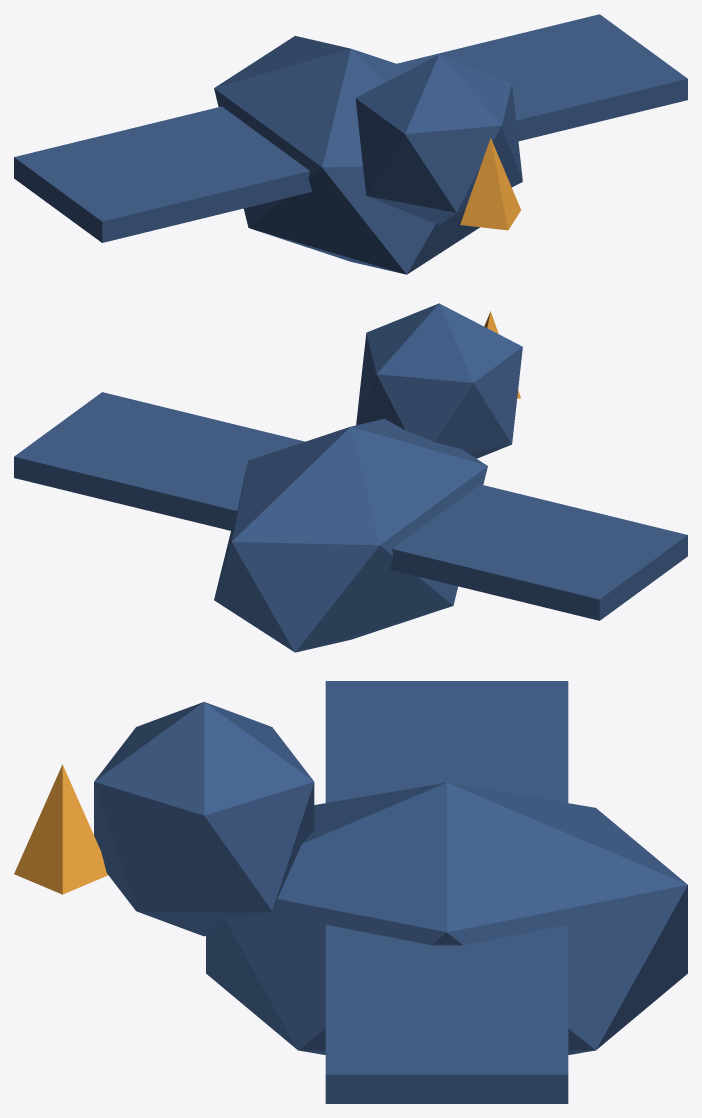
Rendered from bird_2.glb.
3 renders of one model, top to bottom at view 1: azimuth 30°, elevation 25°; view 2: azimuth 150°, elevation 25°; view 3: azimuth 270°, elevation 25°, orthographic. The views are drawn at different scales.
Visible parts, largest first — view 1: body, wing_l, head, wing_r, beak; view 2: body, wing_l, wing_r, head; view 3: body, wing_r, head, wing_l, beak.
Boxes of the visible parts, bbox=[...] form: body: bbox=[214, 36, 479, 274]; wing_l: bbox=[14, 106, 311, 242]; head: bbox=[355, 54, 522, 224]; wing_r: bbox=[397, 14, 687, 141]; beak: bbox=[460, 138, 520, 230]; body: bbox=[214, 419, 487, 652]; wing_l: bbox=[390, 484, 687, 620]; wing_r: bbox=[14, 392, 304, 530]; head: bbox=[356, 303, 522, 458]; body: bbox=[206, 782, 687, 1054]; wing_r: bbox=[325, 924, 568, 1103]; head: bbox=[94, 702, 314, 936]; wing_l: bbox=[325, 681, 568, 802]; beak: bbox=[14, 764, 107, 894].
Bounding box in the file's own units: 0.23 × 0.102 × 0.1665.
